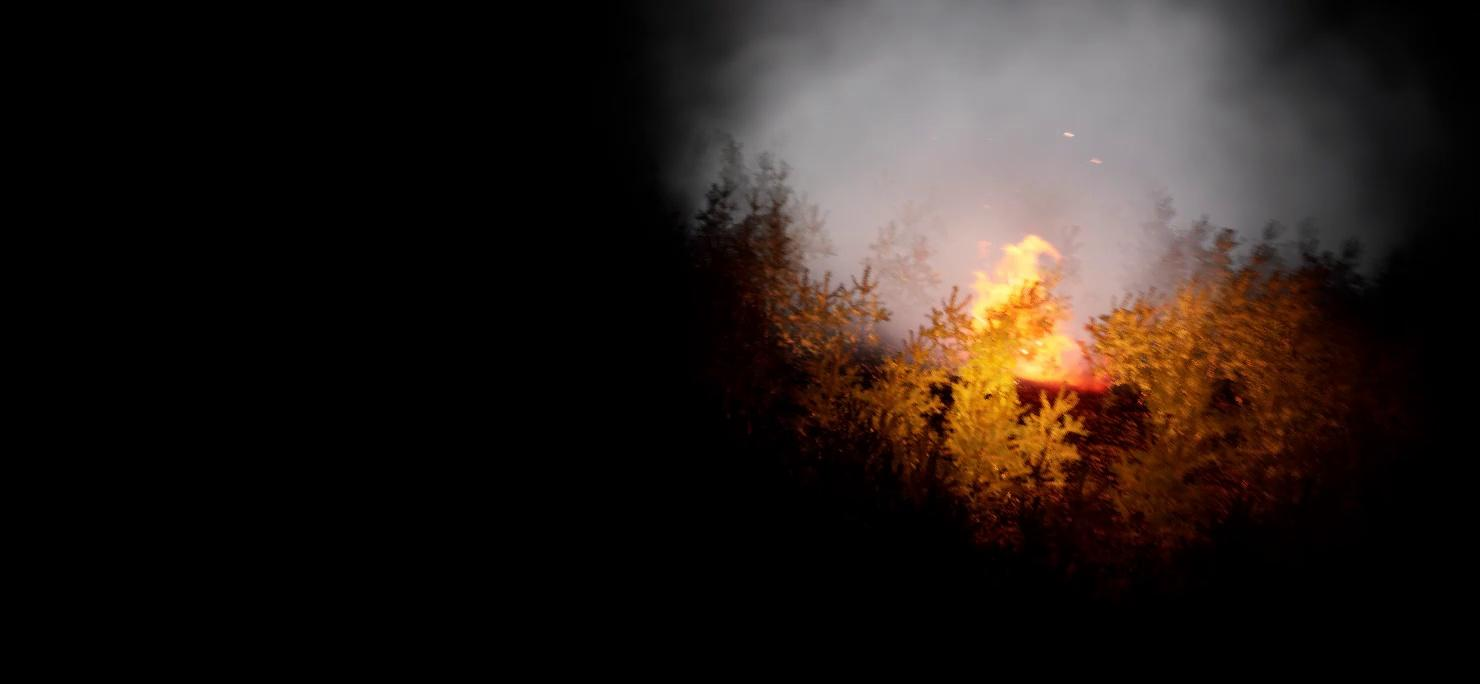fire: (963, 230, 1084, 385)
smoke: (669, 0, 1479, 353)
